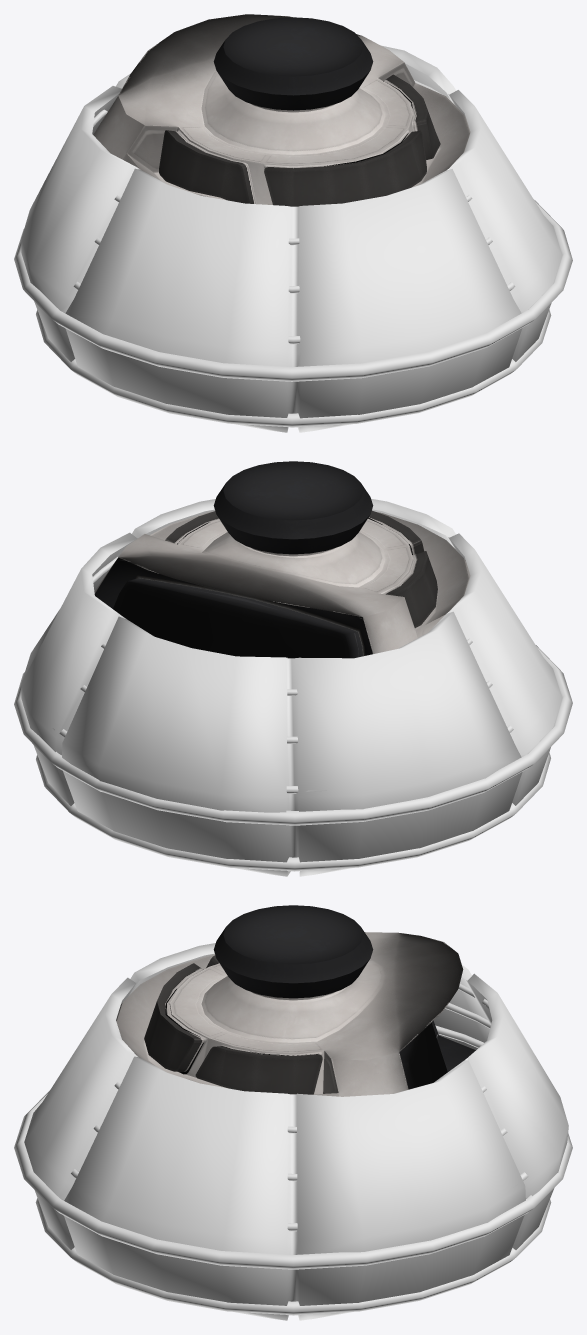
File: escapepod.fbx
3 views of the same model, one above another, from view 1: azimuth 30°, elevation 25°; view 2: azimuth 150°, elevation 25°; view 3: azimuth 270°, elevation 25° (orthographic).
Parts seen in each view (by area): view 1: InteriorWalls, shelldestroyed; view 2: InteriorWalls, shelldestroyed; view 3: InteriorWalls, shelldestroyed.
Part boxes in pixels (x1,y1,x2,y2): InteriorWalls: (14,45,572,432); shelldestroyed: (93,14,470,206); InteriorWalls: (14,498,572,876); shelldestroyed: (94,461,470,658); InteriorWalls: (14,943,572,1320); shelldestroyed: (116,905,475,1096).
Size of the model in its own units: 558 by 360 by 558.
Materials: 3 (2 with a texture image).
